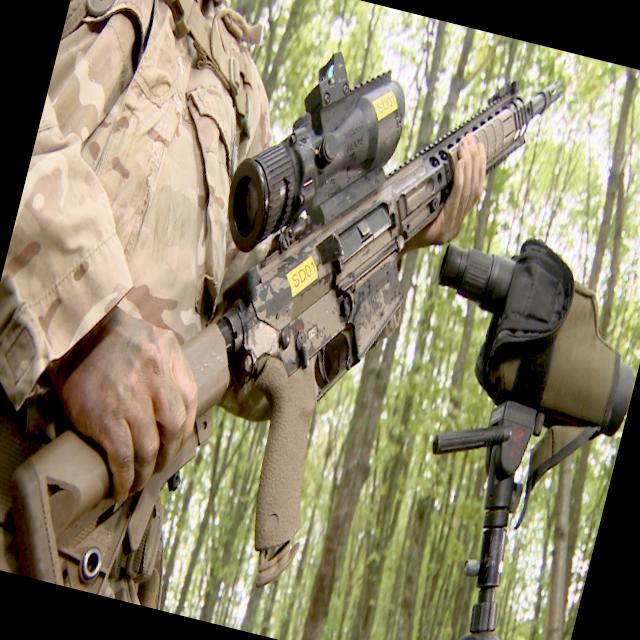rifle: (0, 0, 578, 640)
